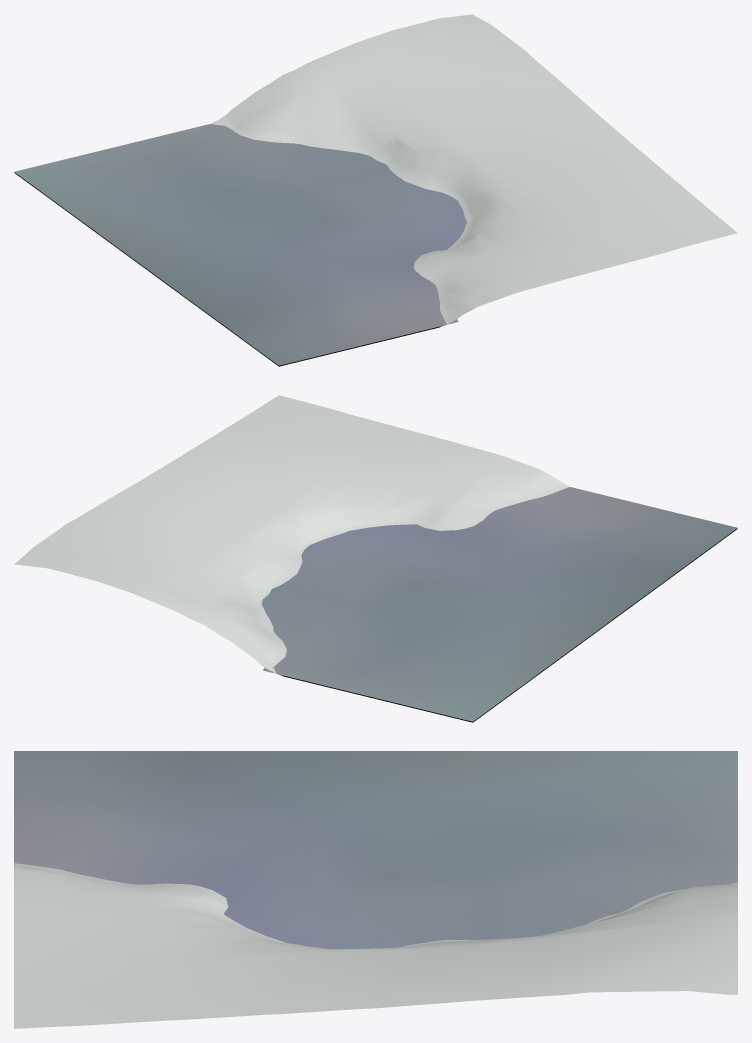
3 renders of one model, top to bottom at view 1: azimuth 30°, elevation 25°; view 2: azimuth 150°, elevation 25°; view 3: azimuth 270°, elevation 25°, orthographic. The views are drawn at different scales.
Visible parts, largest first — view 1: G:\FFXIV-MapTools\exports\r2f1\bg\ex1\01_roc_r2\fld\r2f1\bgp (×3); view 2: G:\FFXIV-MapTools\exports\r2f1\bg\ex1\01_roc_r2\fld\r2f1\bgp (×3); view 3: G:\FFXIV-MapTools\exports\r2f1\bg\ex1\01_roc_r2\fld\r2f1\bgp (×2).
Part boxes in pixels (x1,y1,x2,y2): G:\FFXIV-MapTools\exports\r2f1\bg\ex1\01_roc_r2\fld\r2f1\bgp (×3): [14, 14, 737, 366]; G:\FFXIV-MapTools\exports\r2f1\bg\ex1\01_roc_r2\fld\r2f1\bgp (×3): [14, 395, 737, 722]; G:\FFXIV-MapTools\exports\r2f1\bg\ex1\01_roc_r2\fld\r2f1\bgp (×2): [14, 751, 737, 1028].
Bounding box in the file's own units: 128 × 13.5 × 128.
